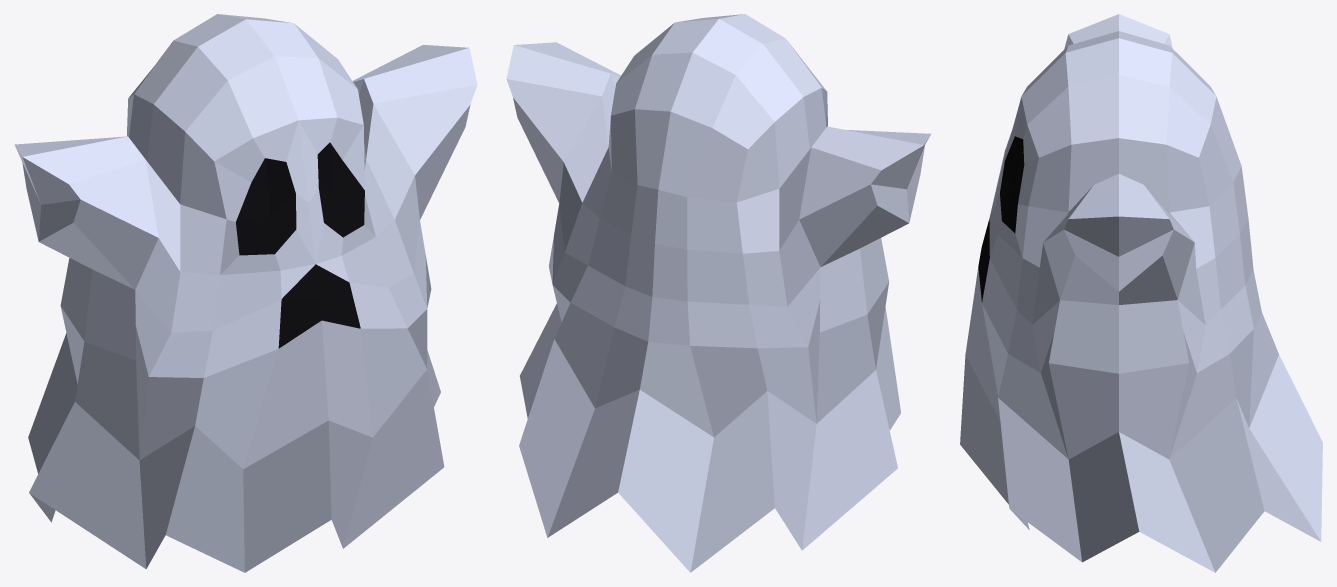
The model's file is 1gs-khliebnikova-mariia-fantasma.glb.
The picture shows the model from 3 angles, left to right: view 1: azimuth 30°, elevation 25°; view 2: azimuth 150°, elevation 25°; view 3: azimuth 270°, elevation 25°; orthographic projection. The views are drawn at different scales.
Visible parts, largest first — view 1: FANTASMA; view 2: FANTASMA; view 3: FANTASMA.
Part boxes in pixels (x1=…): FANTASMA: x1=14, y1=14, x2=477, y2=572; FANTASMA: x1=506, y1=14, x2=931, y2=572; FANTASMA: x1=960, y1=14, x2=1322, y2=572.
Bounding box in the file's own units: 1.6 × 1.74 × 1.21.
Materials: 1 (1 with a texture image).
